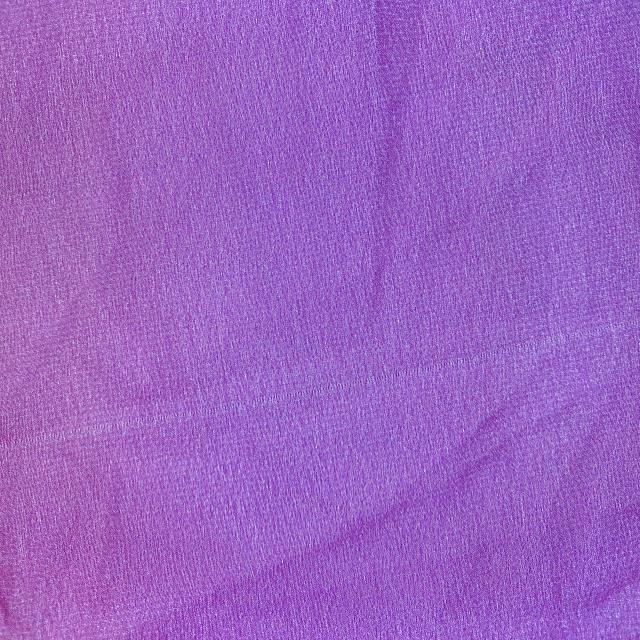pulled_or_thick_thread: (0, 312, 640, 452)
